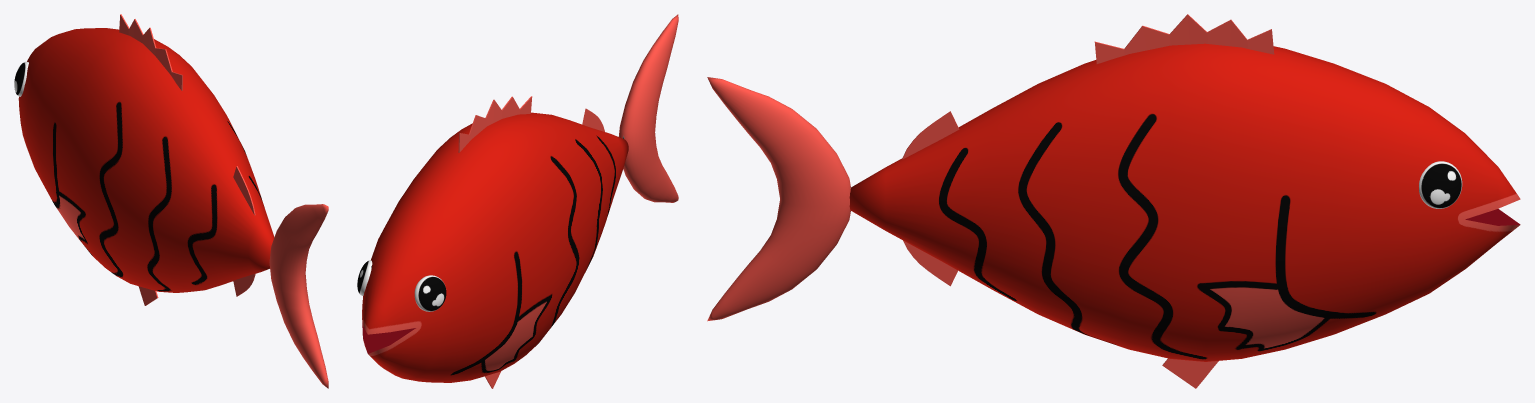
File: tai.fbx
The picture shows the model from 3 angles, left to right: view 1: azimuth 30°, elevation 25°; view 2: azimuth 150°, elevation 25°; view 3: azimuth 270°, elevation 25°; orthographic projection. The views are drawn at different scales.
Parts seen in each view (by area): view 1: Sphere, Sphere.001, Plane, Plane.001, Sphere.002; view 2: Sphere, Sphere.001, Sphere.002, Plane, Plane.001; view 3: Sphere, Sphere.001, Plane, Plane.001, Sphere.002, Plane.002.
Boxes of the visible parts, x1,y1,x2,y2 form: Sphere: (18, 28, 274, 292); Sphere.001: (269, 204, 328, 388); Plane: (119, 14, 182, 90); Plane.001: (233, 166, 255, 296); Sphere.002: (14, 61, 28, 96); Sphere: (362, 112, 628, 382); Sphere.001: (618, 14, 678, 202); Sphere.002: (357, 260, 446, 311); Plane: (458, 96, 532, 152); Plane.001: (582, 108, 604, 131); Sphere: (849, 43, 1520, 361); Sphere.001: (707, 77, 850, 321); Plane: (1094, 14, 1274, 63); Plane.001: (902, 111, 959, 286); Sphere.002: (1419, 161, 1462, 208); Plane.002: (1162, 358, 1218, 388).
Bounding box in the file's own units: 118 × 253 × 497.
Materials: 1 (1 with a texture image).
